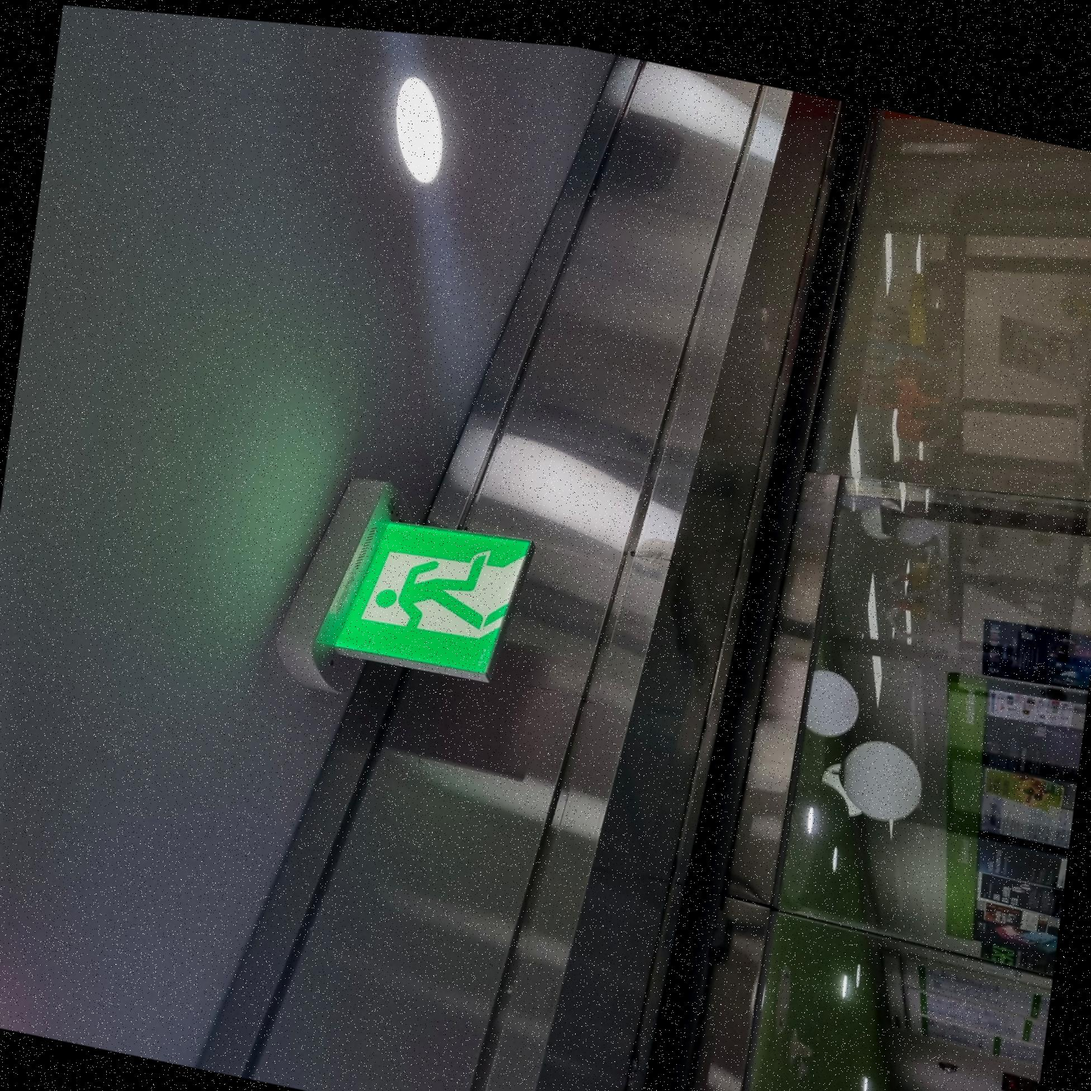emergency_exit: (316, 516, 534, 685)
